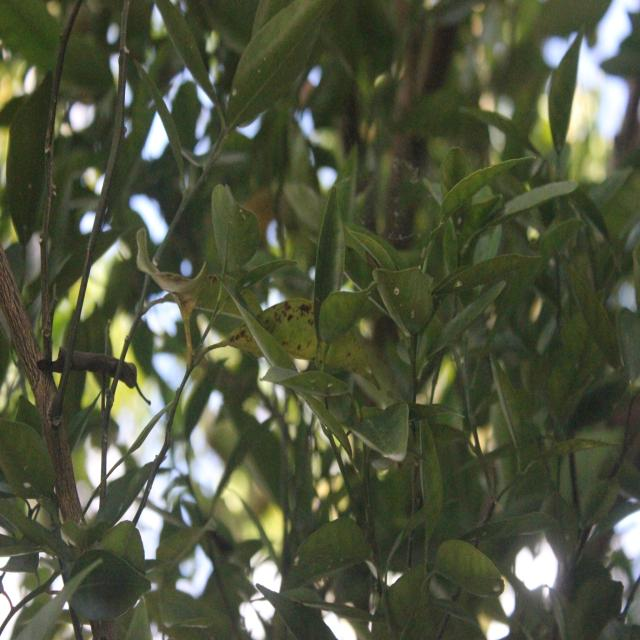melanose: (211, 289, 382, 389)
